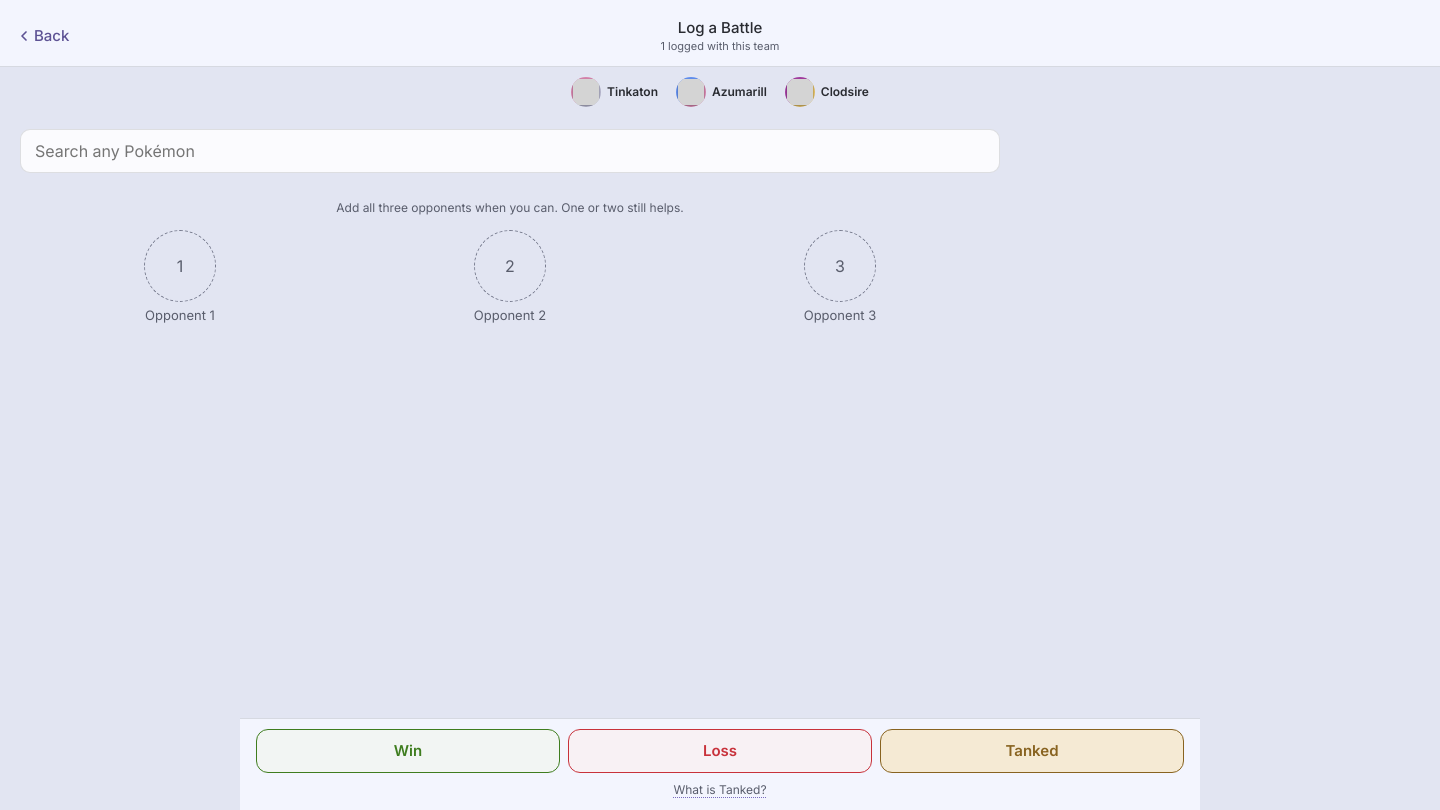
Log a Battle on the foundation › says what was saved and how many this team has now
Check: the text "1 logged with this team" is shown, box [660,39,779,55]
Click the button "Win": (408, 751) [256,729,560,773]
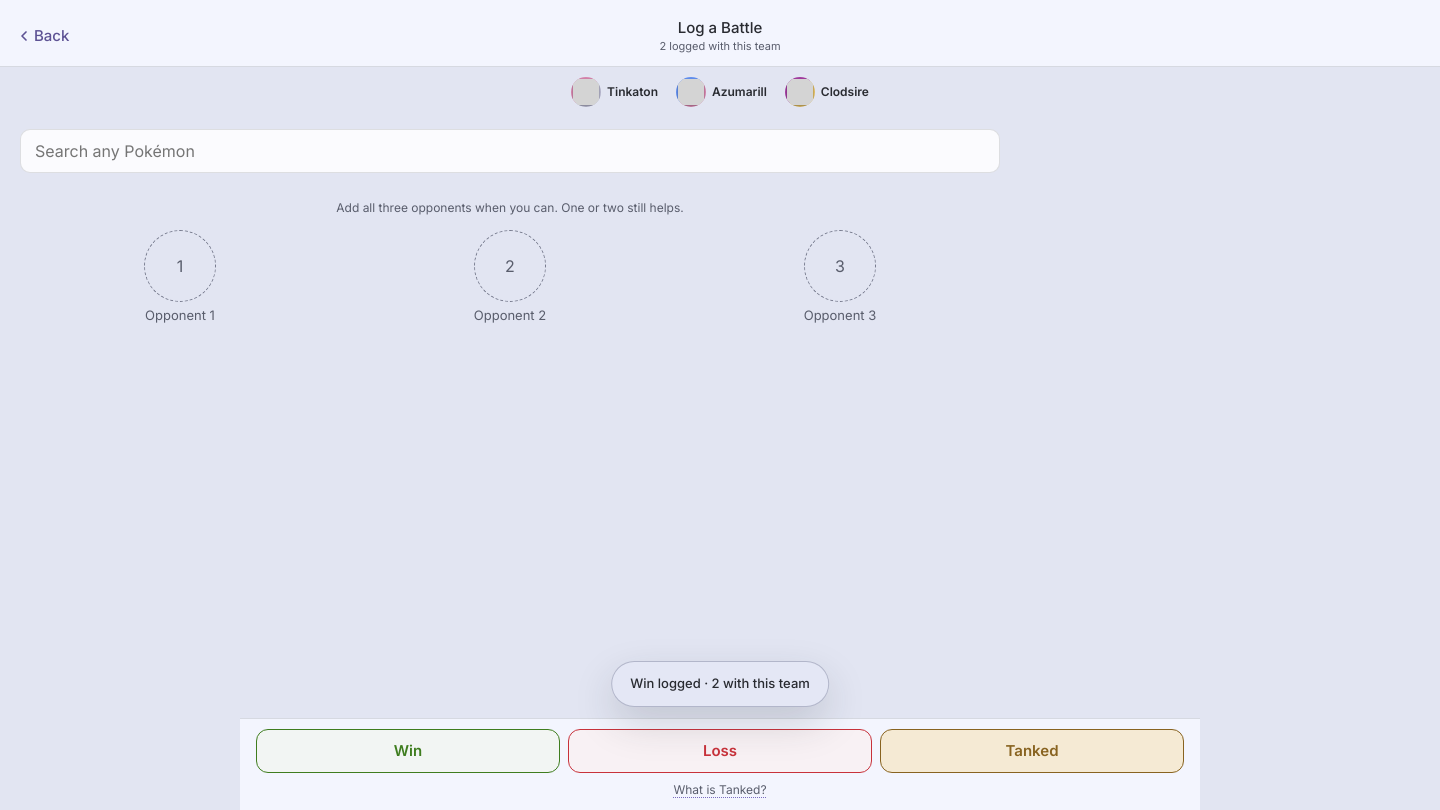
Check: the message reads "Win logged · 2 with this team", box [612,662,828,706]
Click the button "Tanked": (1032, 751) [880,729,1184,773]
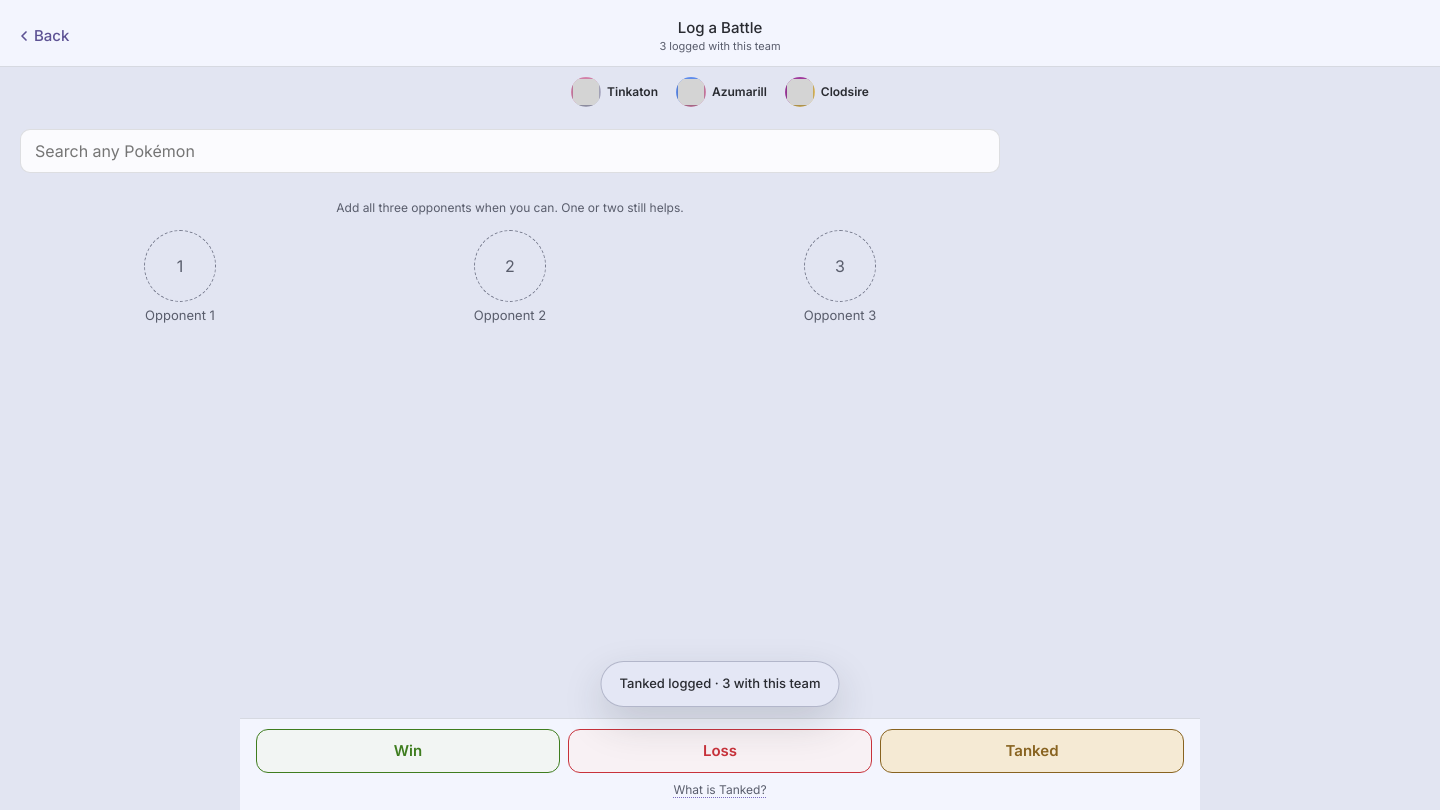
Check: the button "Tanked logged · 3 with this team" is shown, box [602,662,838,706]
